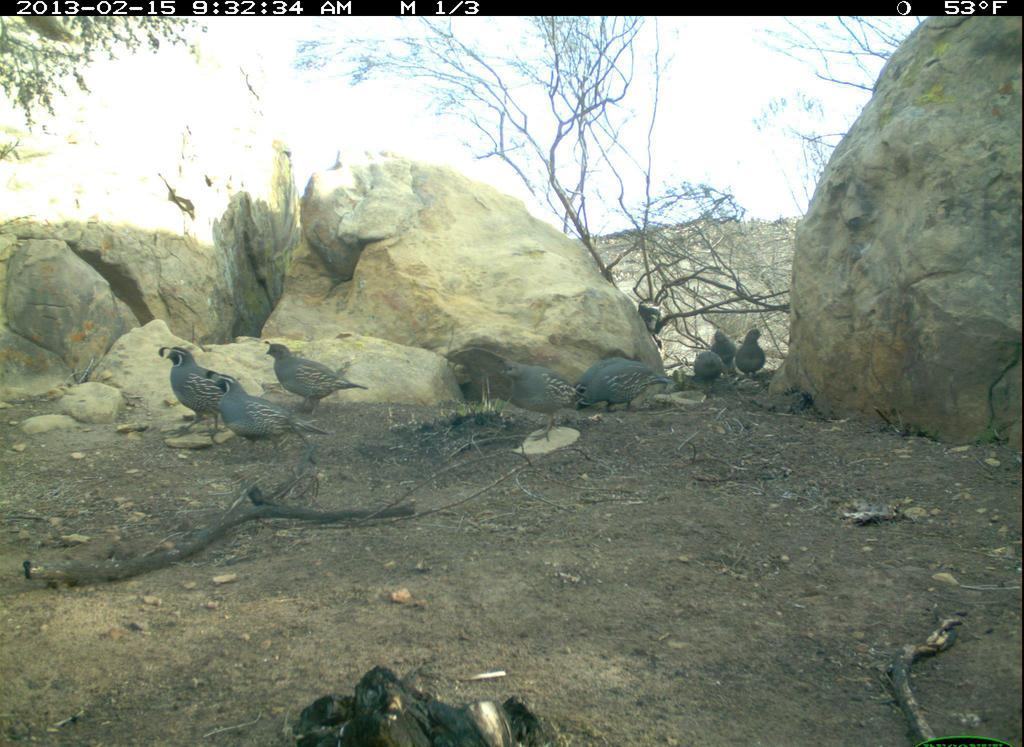bird: (204, 364, 324, 464), (495, 350, 592, 452), (164, 344, 257, 442), (262, 338, 370, 420), (571, 353, 686, 418), (699, 318, 742, 381), (734, 327, 769, 386), (689, 348, 729, 399)
